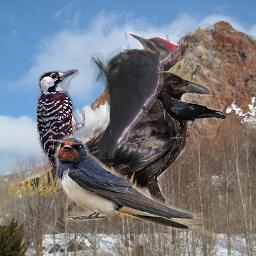Crow: (8, 71, 212, 224), (147, 91, 226, 139)
Swallow: (55, 134, 237, 244)
Woodpecker: (90, 31, 181, 159), (37, 69, 85, 206)
